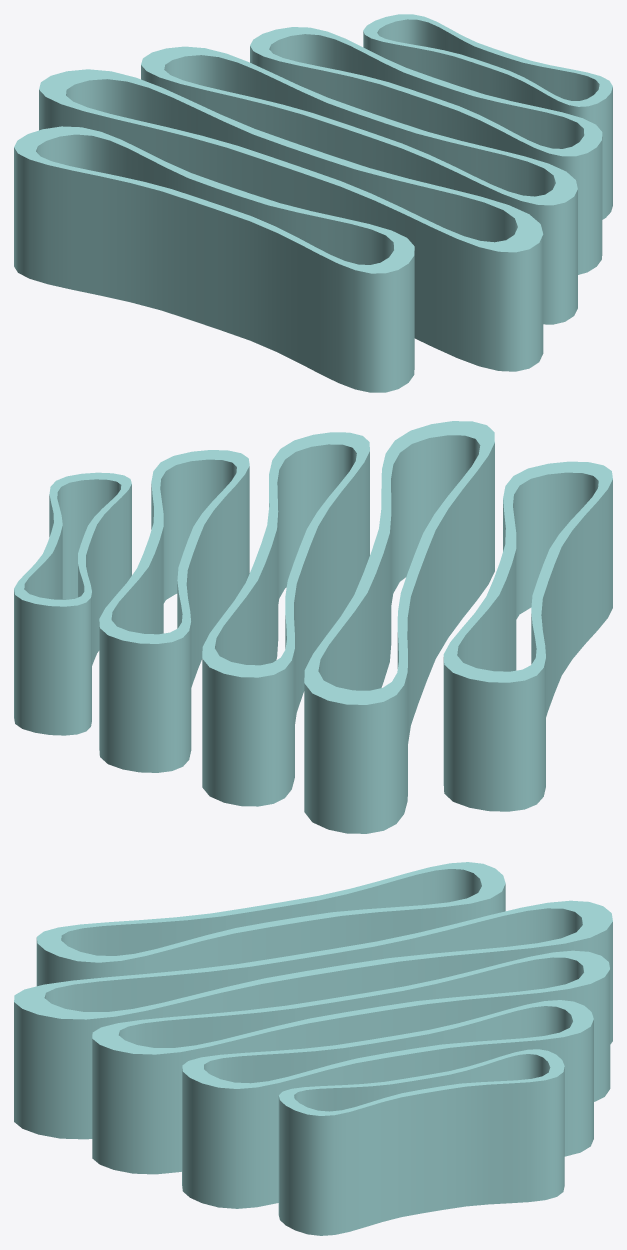
File: golgiFBX.fbx
The picture shows the model from 3 angles, top to bottom: view 1: azimuth 30°, elevation 25°; view 2: azimuth 150°, elevation 25°; view 3: azimuth 270°, elevation 25°; orthographic projection. The views are drawn at different scales.
Parts seen in each view (by area): view 1: pPipe6; view 2: pPipe6; view 3: pPipe6.
Part boxes in pixels (<box>): pPipe6: <box>14,14,612,392</box>; pPipe6: <box>14,421,612,833</box>; pPipe6: <box>14,862,612,1235</box>.
Bounding box in the file's own units: 37.46 × 8.24 × 37.32.
